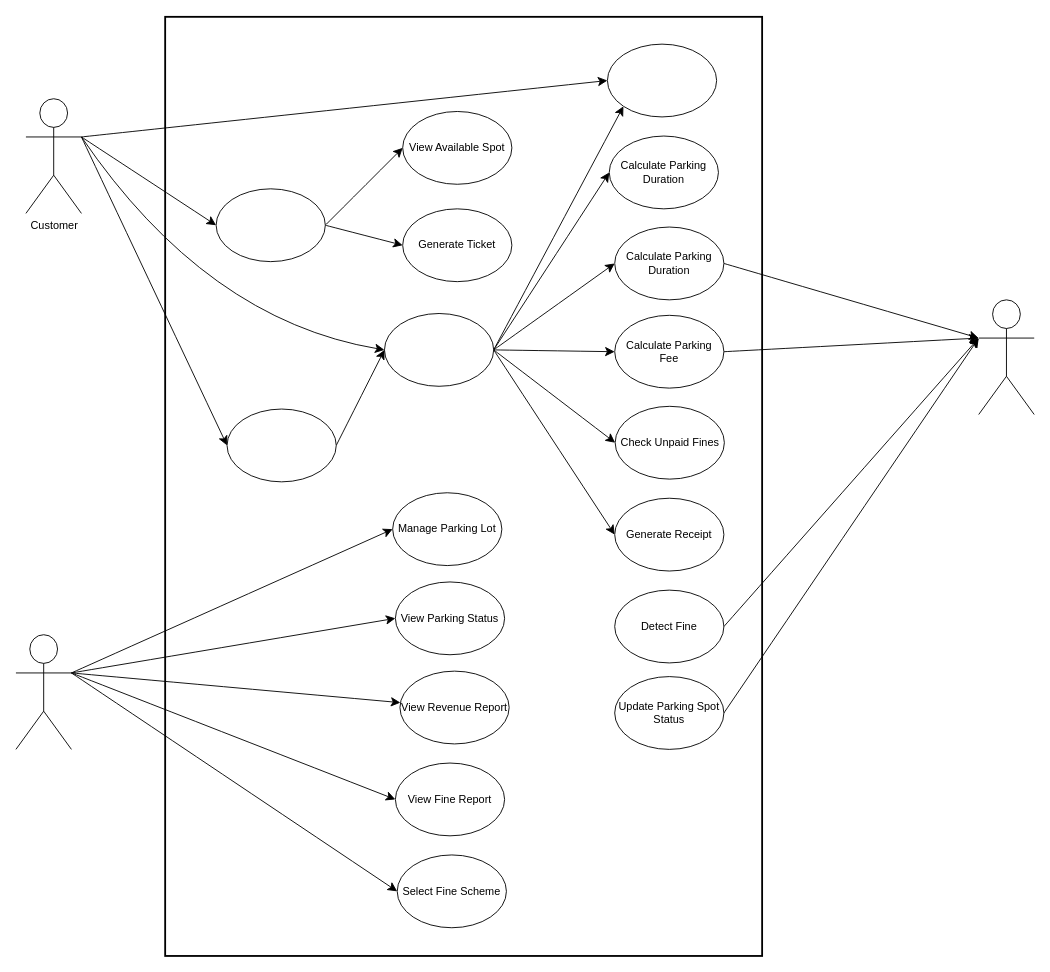
Image size: 1050x972. Some labels were removed from this diagram. Here are the shapes that lost their labels. From the top down, the box of each, then its label:
(607, 43, 717, 117): Process Payment
(215, 188, 325, 262): Park Vehicle
(384, 313, 494, 386): Exit Vehicle
(978, 299, 1034, 415): System
(226, 408, 336, 482): Pay Fine
(15, 634, 71, 749): Admin
